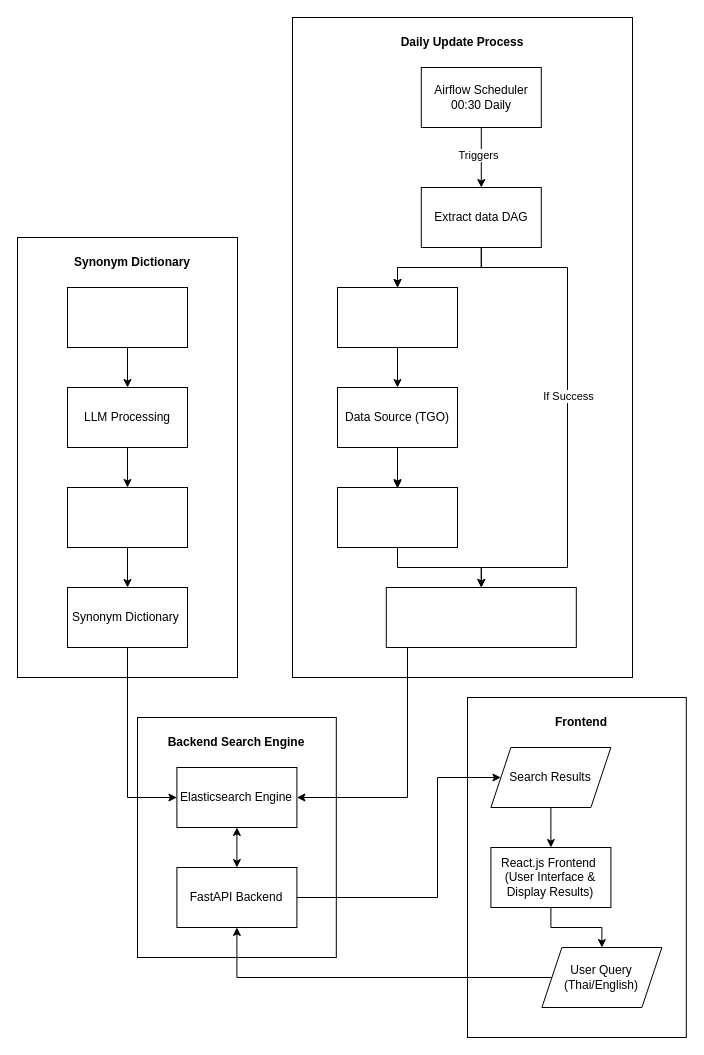
This 704x1055 diagram has some shape labels left out. The shapes that lost their labels are listed below. From the top down, each one's box as (x1, y1, x2, y2) in pixels, then its label:
(66, 286, 188, 348): Extract Key Terms
(336, 286, 458, 348): Web Scraping (Data Extraction)
(66, 486, 188, 548): Validate Synonyms
(336, 486, 458, 548): Data Preprocessing & Data Cleaning
(385, 586, 576, 648): Create Elasticsearch Index
